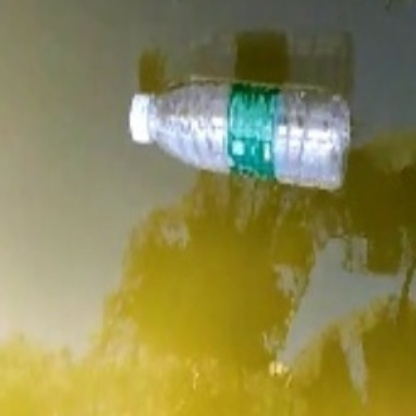bottle: (120, 67, 354, 208)
